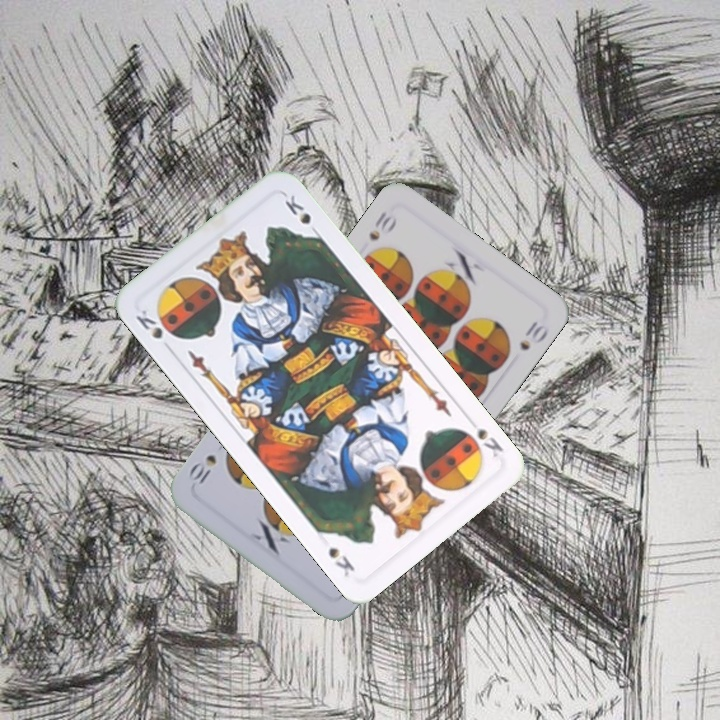S10: (364, 207, 400, 244)
SK: (131, 305, 166, 342), (473, 422, 506, 460)
